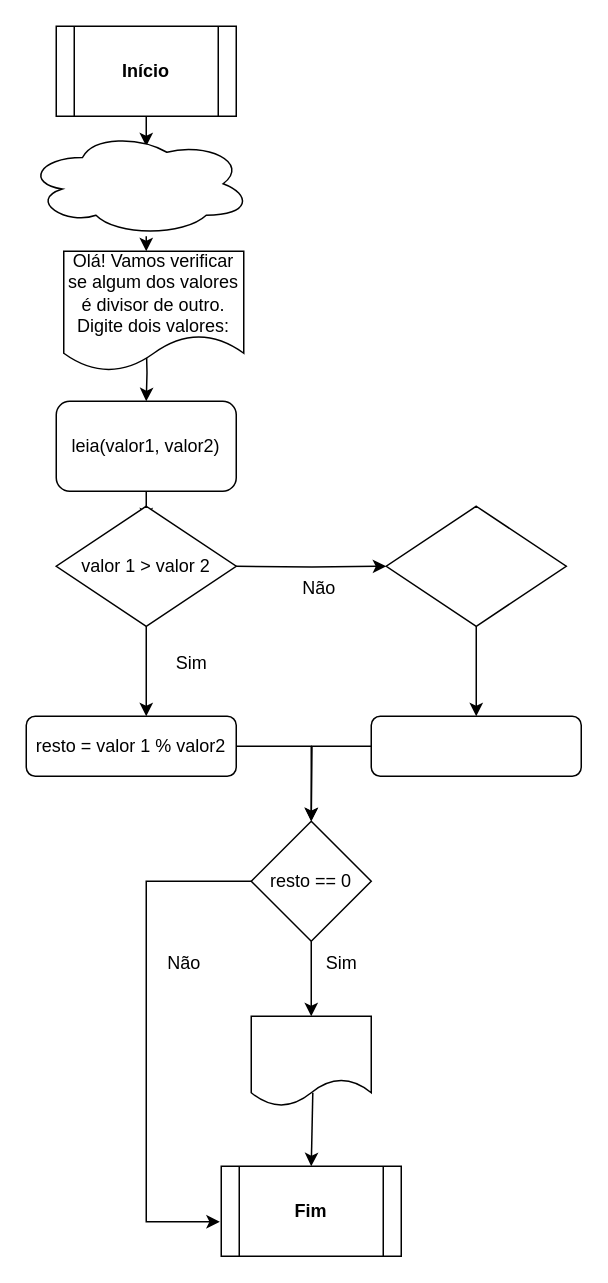
Some shapes in this 608 by 1283 pixel diagram are drawn without their labels. Each missing label, with the centre of its shape:
resto = valor 2 % valor 1: [475,745]
valor 2 > valor 1: [475,565]
valor1,valor2,resto: [138,183]
É divisor!: [310,1060]
